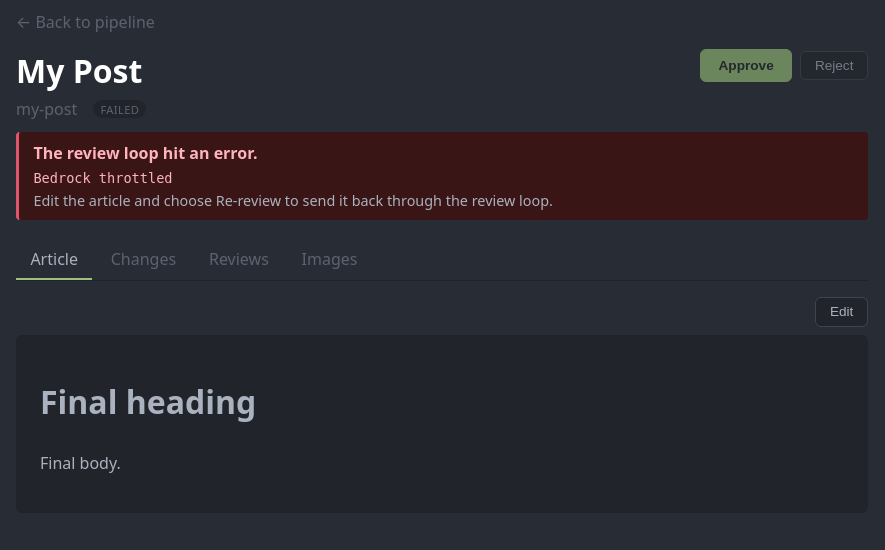
Test: PostDetail — failed posts (PIPE-36) › surfaces an error loading the Markdown
This screenshot has width=885, height=550.
Expected: the heading "My Post" is shown, x1=16 y1=49 x2=146 y2=92
Click the button "Edit" at [842, 312], box x1=815 y1=297 x2=868 y2=327
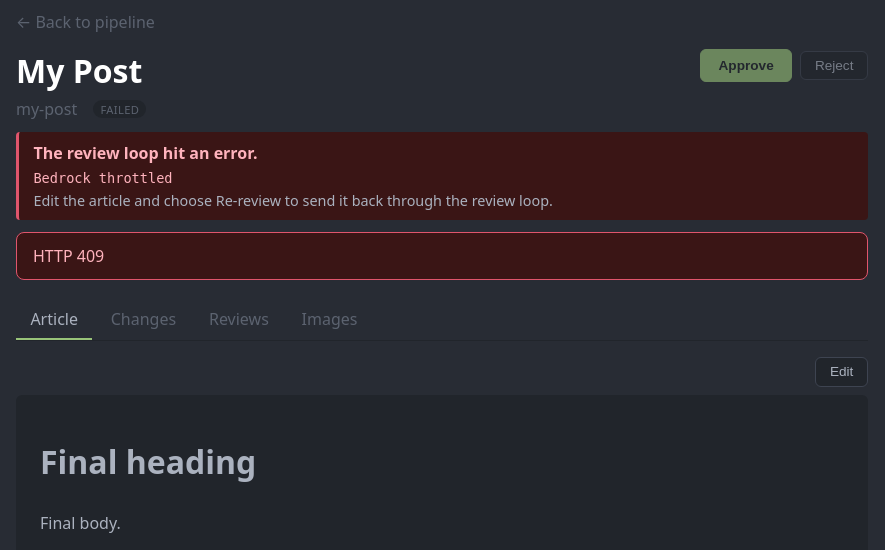
Expected: the message reads "HTTP 409", x1=33 y1=245 x2=104 y2=267
